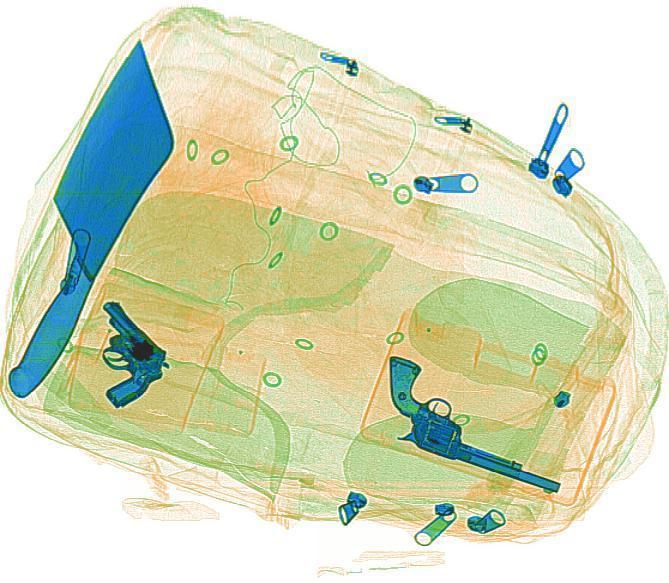Gun: (351, 353, 592, 495), (48, 296, 184, 410)
Knife: (0, 40, 216, 308)
